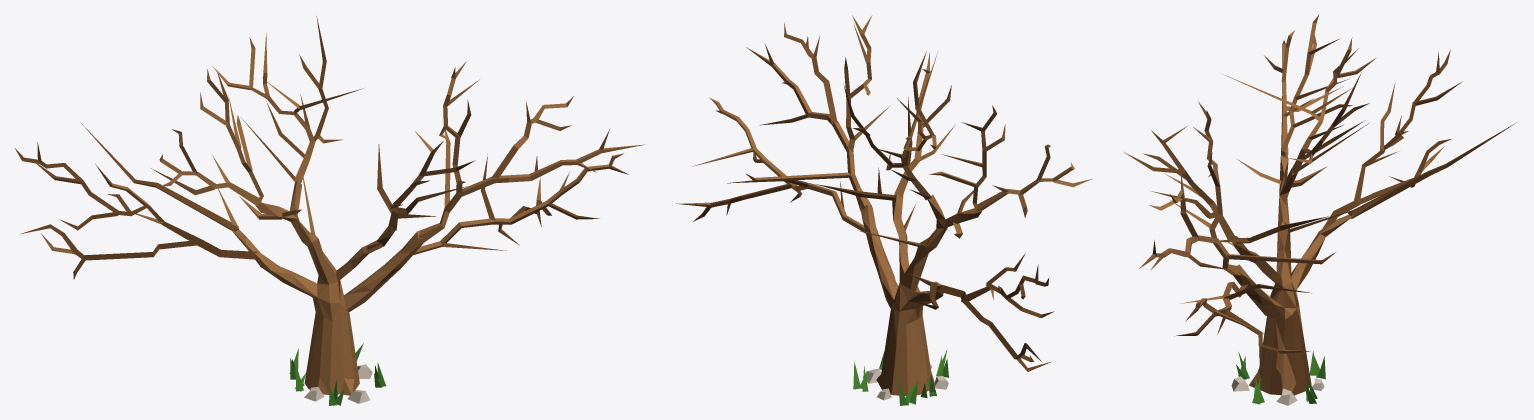
The model's file is cherry_var_bare.glb.
The picture shows the model from 3 angles, left to right: view 1: azimuth 30°, elevation 25°; view 2: azimuth 150°, elevation 25°; view 3: azimuth 270°, elevation 25°; orthographic projection. The views are drawn at different scales.
Parts seen in each view (by area): view 1: cherry_var_bare; view 2: cherry_var_bare; view 3: cherry_var_bare.
Boxes of the visible parts, x1,y1,x2,y2 form: cherry_var_bare: (15, 16, 644, 405); cherry_var_bare: (676, 15, 1091, 405); cherry_var_bare: (1124, 14, 1516, 405).
Size of the model in its own units: 9.21 by 6.17 by 6.76.
